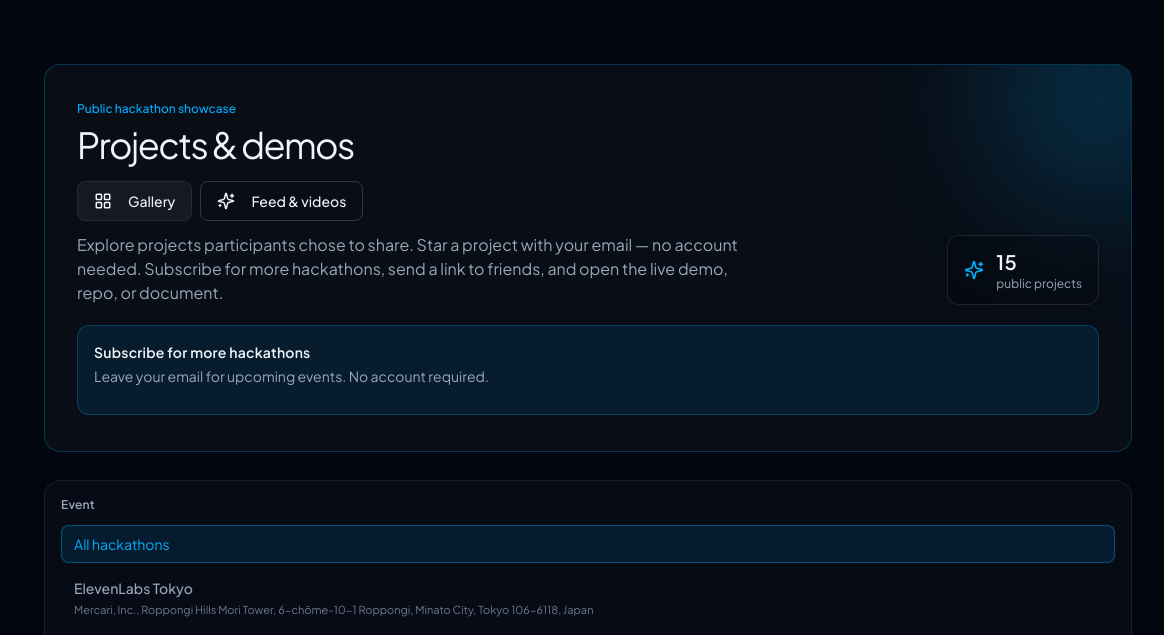
it: bundled submissions across the public project pages › shows all 14 immediately, retains cloud projects, and filters by event and teammate
Later steps or results of the test are not shown.
Click the button "ElevenLabs Tokyo" at (133, 588), box [61,569,1115,629]
(page scrolled)
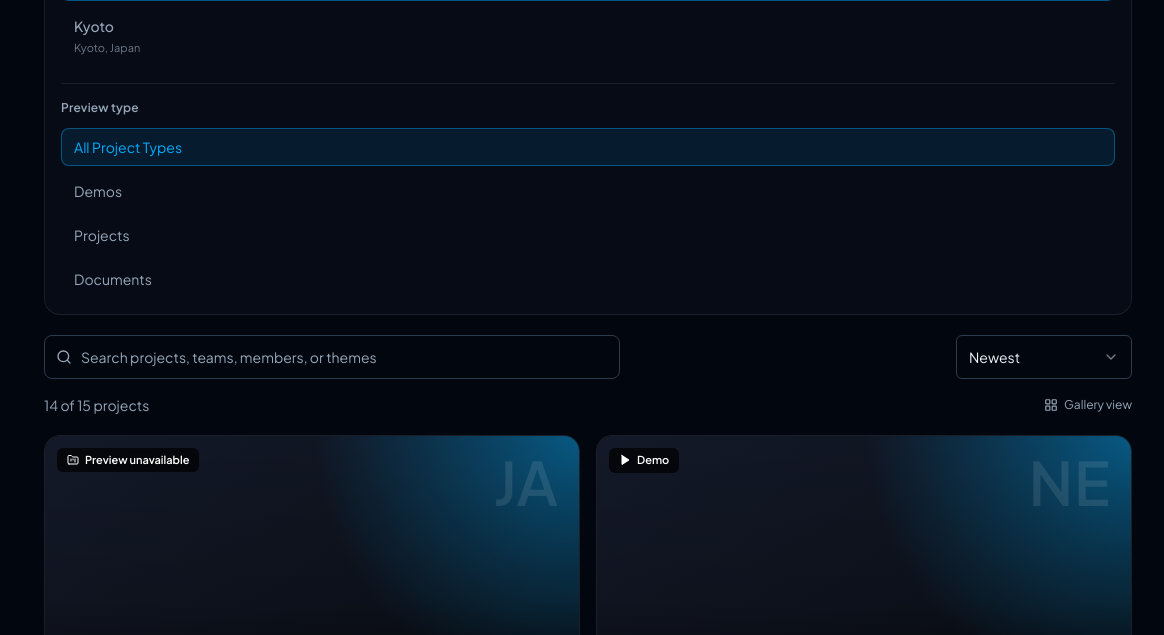
Check: the text "14 of 15 projects" is shown, box [44,395,149,415]
